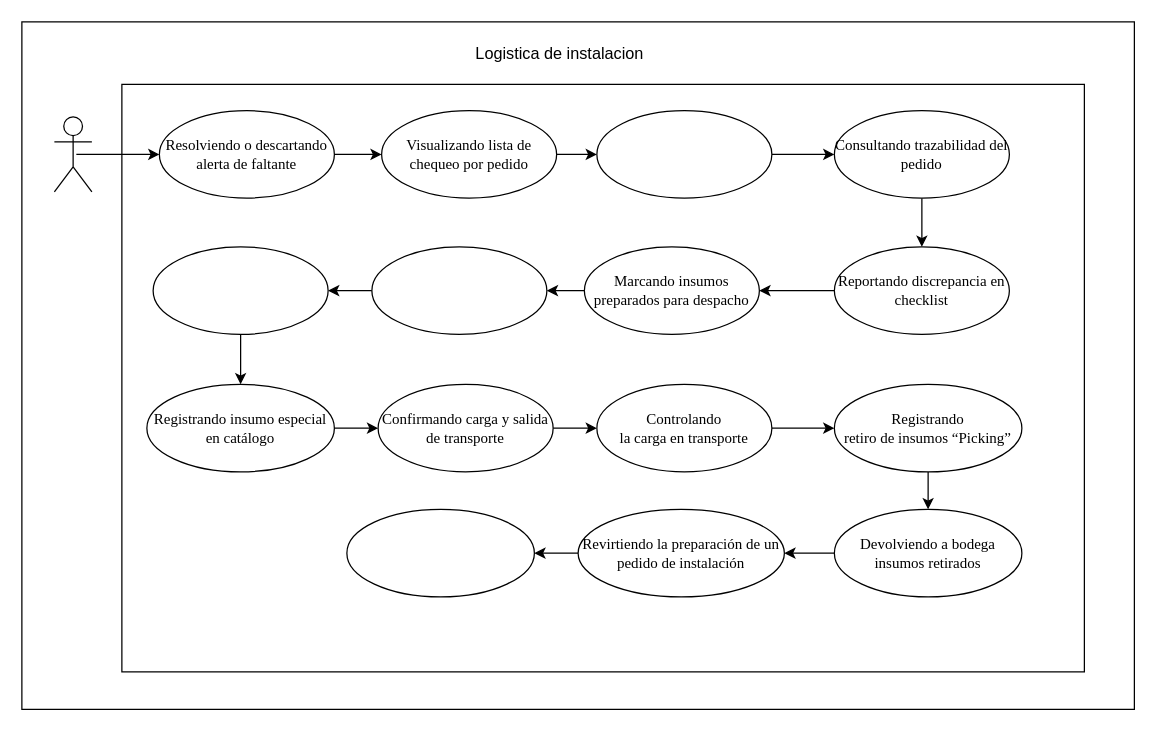
Some shapes in this 1156 by 731 pixel diagram are drawn without their labels. Here are the shapes that lost their labels. From the top down, the centre of each, then its label:
pixel 72 154: Gerencia
pixel 684 153: Consultando estado de disponibilidad del pedido
pixel 240 290: Controlando insumos especiales
pixel 459 290: Vinculando insumos a pedido de instalación
pixel 440 552: Cancelando el pedido de una venta cancelada
